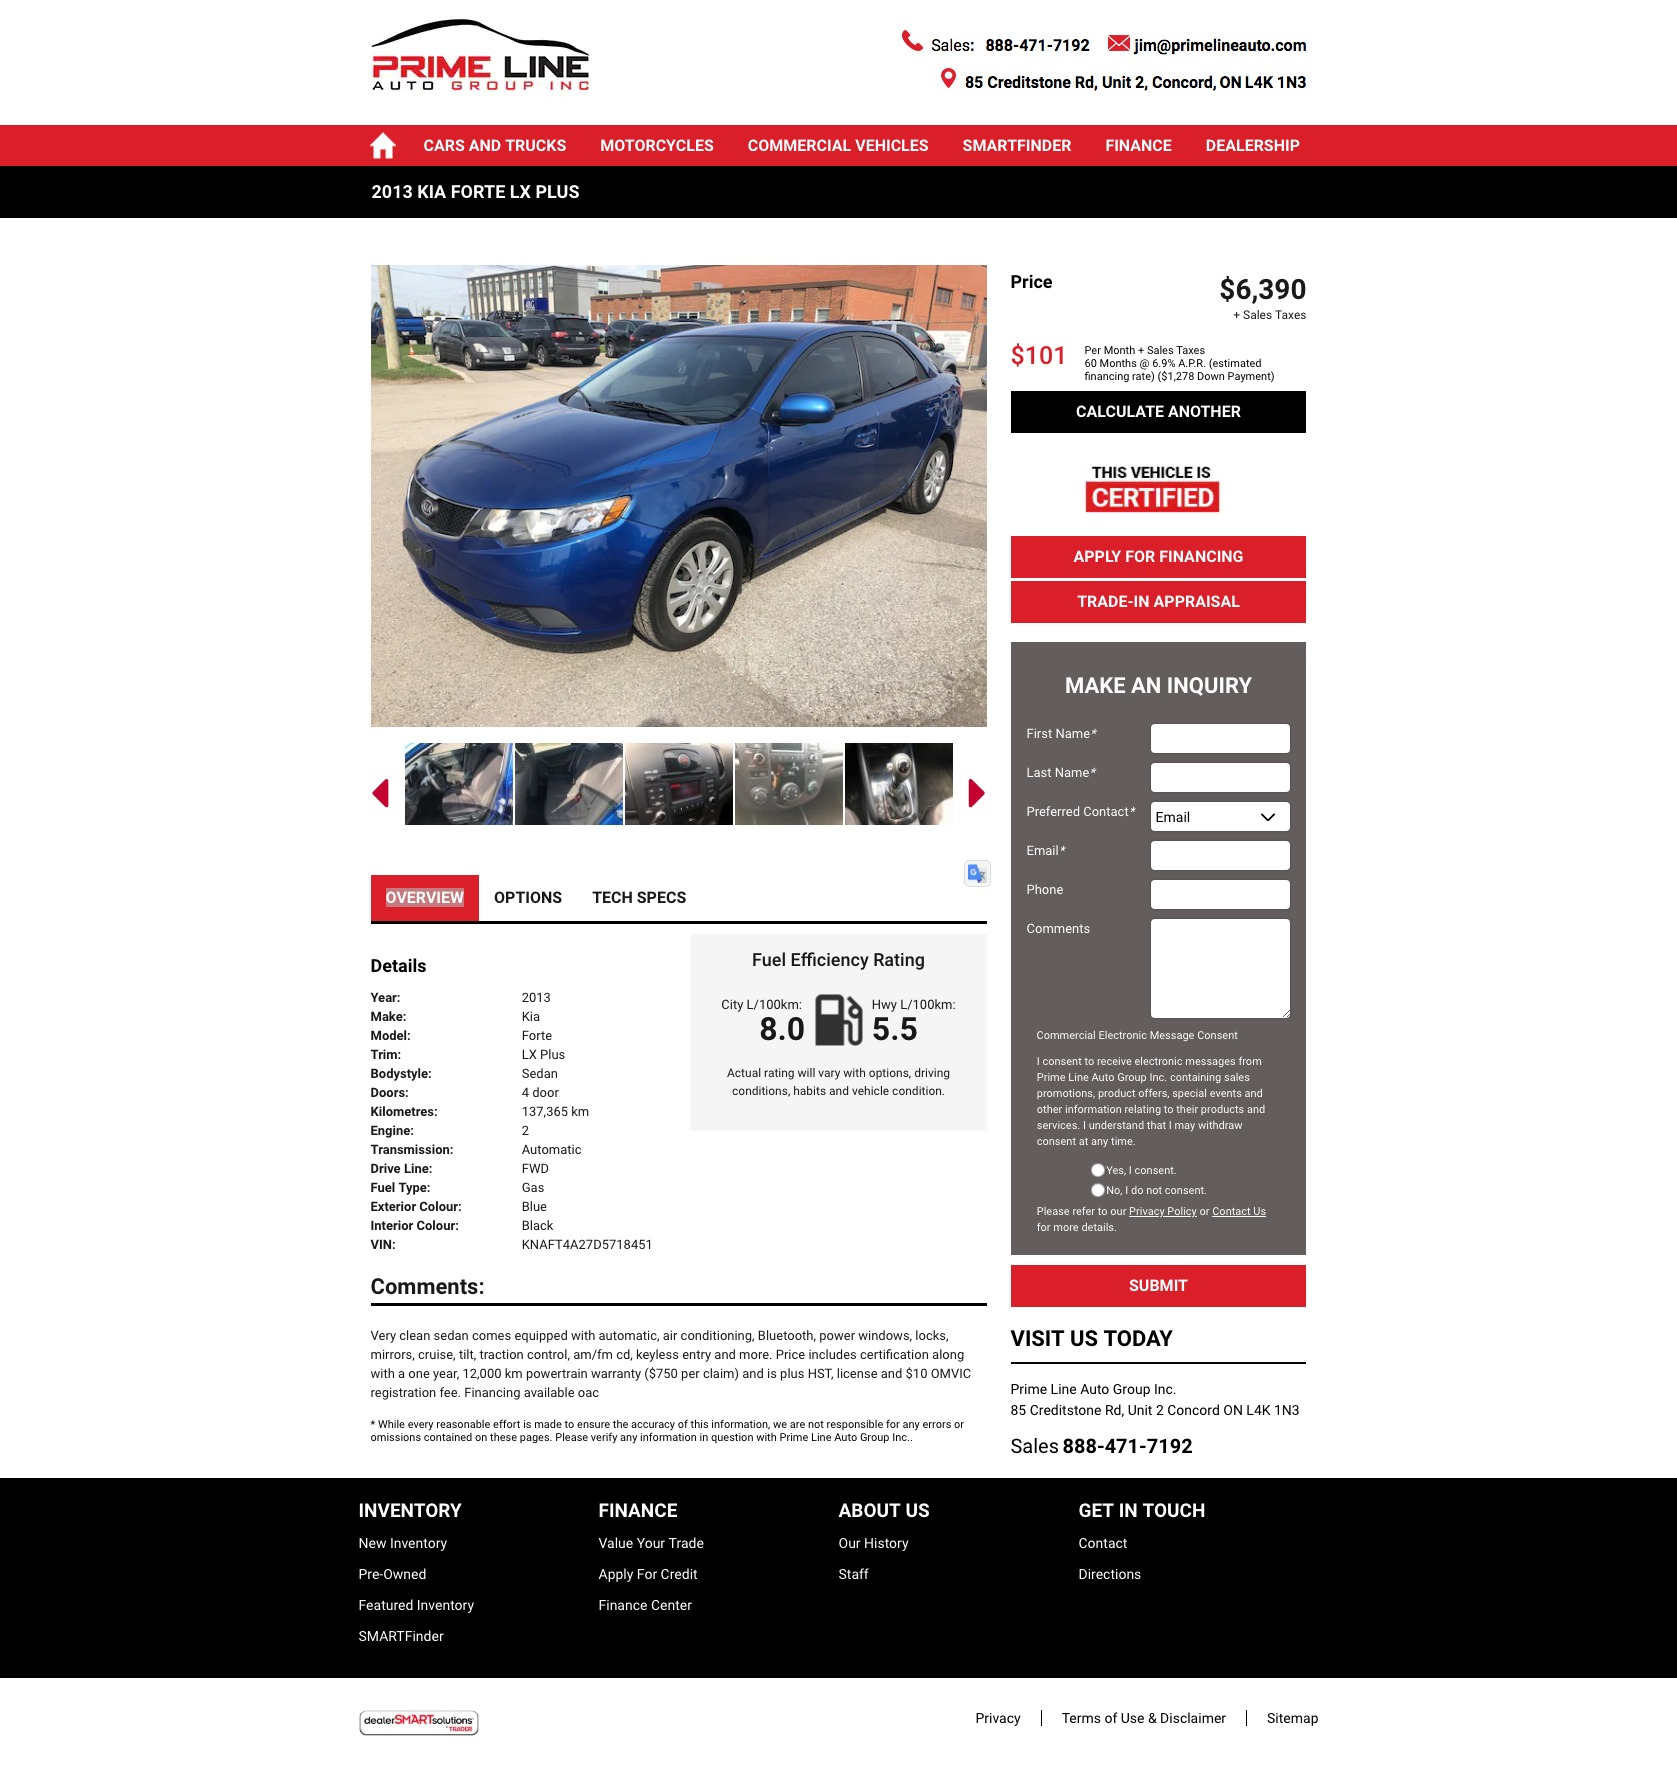car: (969, 779, 987, 808)
